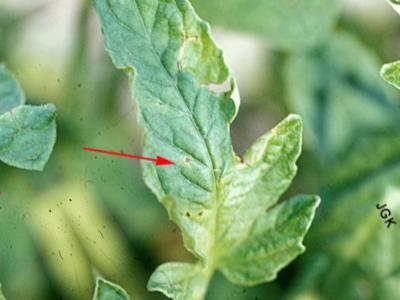Tomato leaf bacterial spot: (48, 0, 365, 300)
